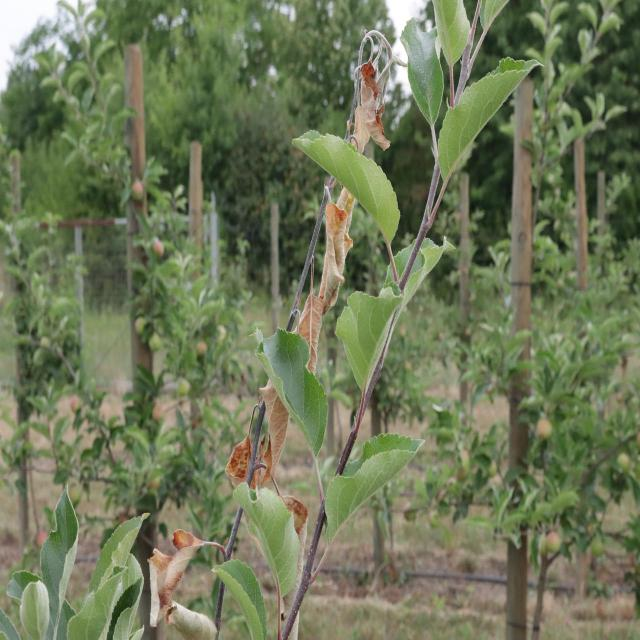-FireBlight-: (141, 542, 227, 640), (338, 48, 398, 156), (306, 185, 352, 302), (246, 376, 290, 494), (282, 295, 334, 357)
